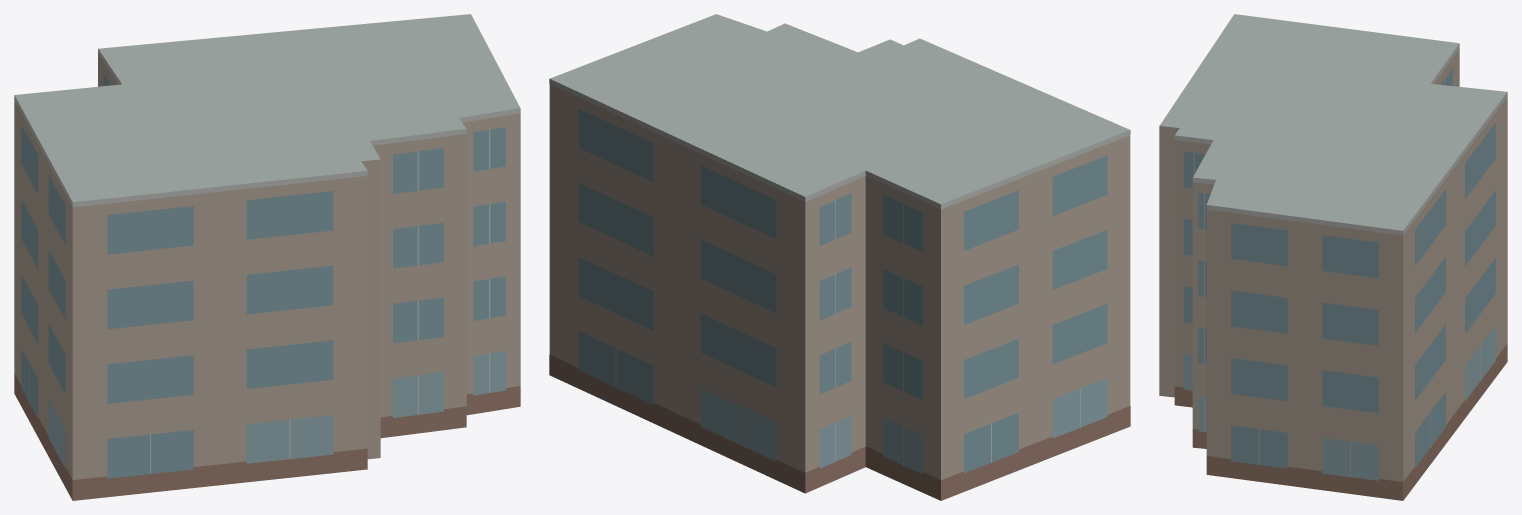
File: survey-upis-32535121.glb
The picture shows the model from 3 angles, left to right: view 1: azimuth 30°, elevation 25°; view 2: azimuth 150°, elevation 25°; view 3: azimuth 270°, elevation 25°; orthographic projection. The views are drawn at different scales.
Parts seen in each view (by area): view 1: survey-upis-32535121.tmp; view 2: survey-upis-32535121.tmp; view 3: survey-upis-32535121.tmp.
Part boxes in pixels (<box>): survey-upis-32535121.tmp: <box>14,14,520,500</box>; survey-upis-32535121.tmp: <box>549,14,1130,500</box>; survey-upis-32535121.tmp: <box>1159,14,1507,500</box>.
Size of the model in its own units: 24.13 by 14 by 16.37.
